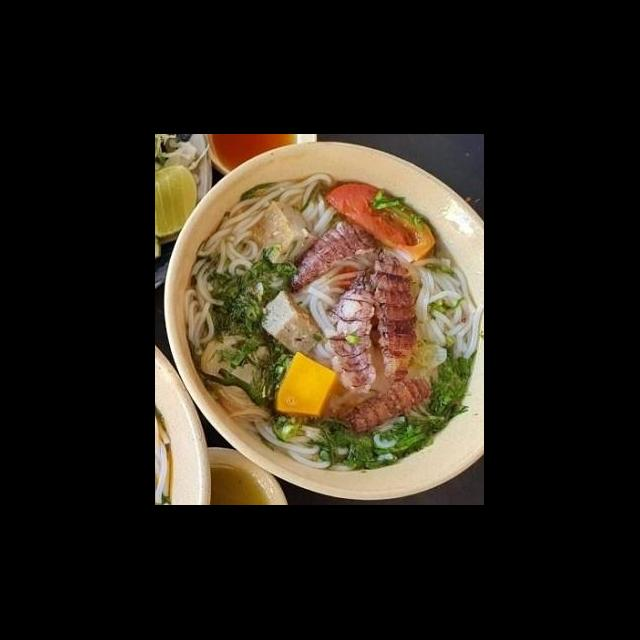bun: (180, 168, 340, 356), (246, 410, 414, 476), (406, 250, 484, 374), (298, 245, 378, 364)
tom tit: (320, 264, 390, 398), (366, 240, 424, 386), (282, 215, 381, 298), (338, 372, 434, 440)
